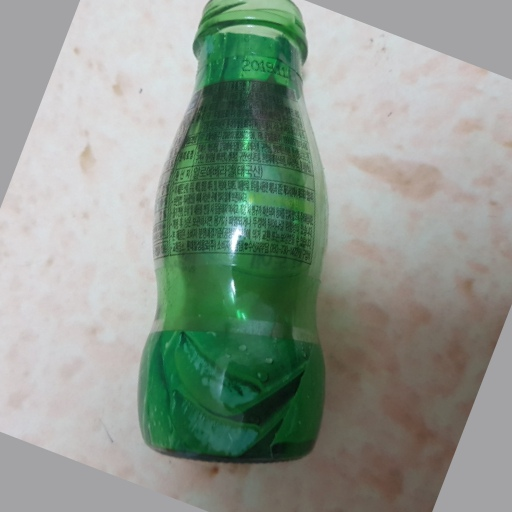Glass_4: (133, 1, 332, 464)
